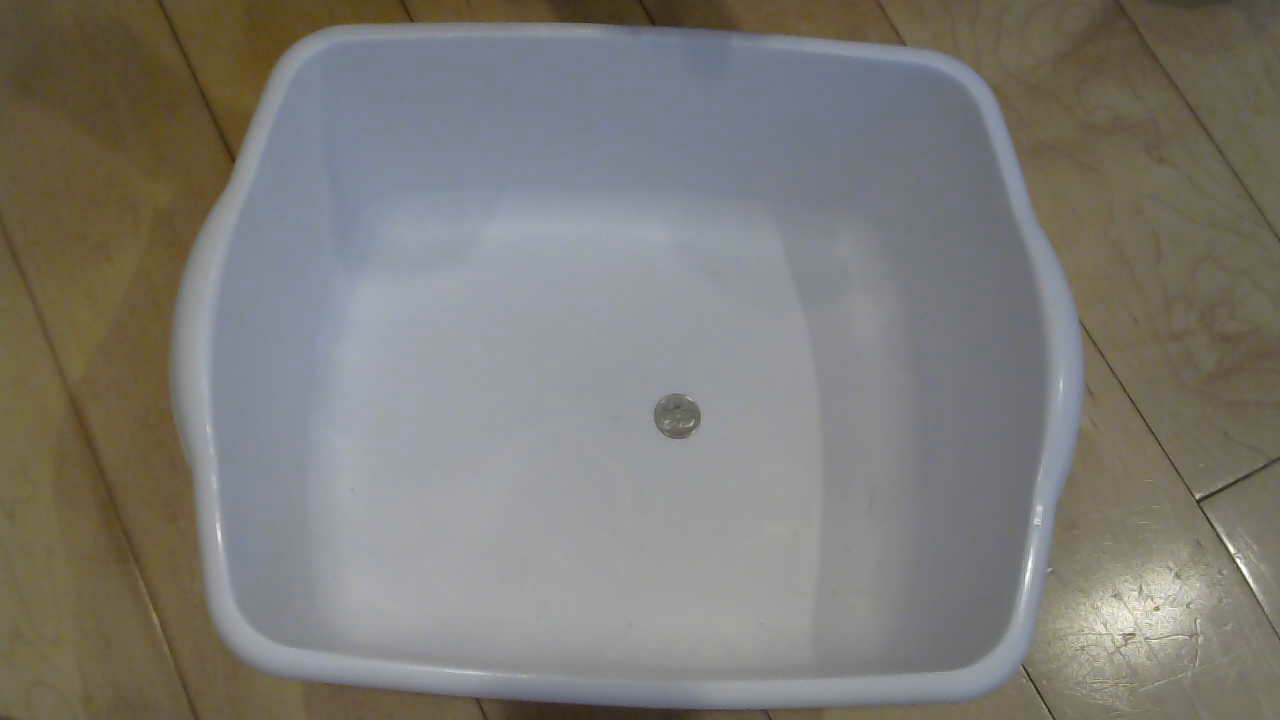coin: (650, 390, 714, 449)
